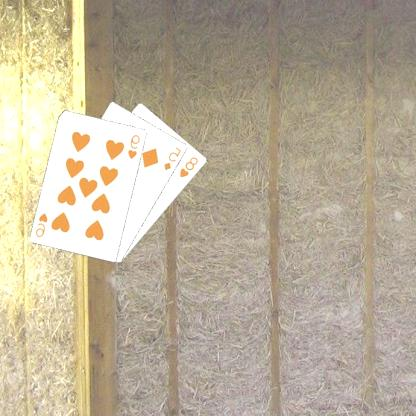5D: (164, 144, 184, 172)
8H: (179, 154, 201, 179)
9H: (127, 132, 144, 160), (35, 210, 51, 238)
